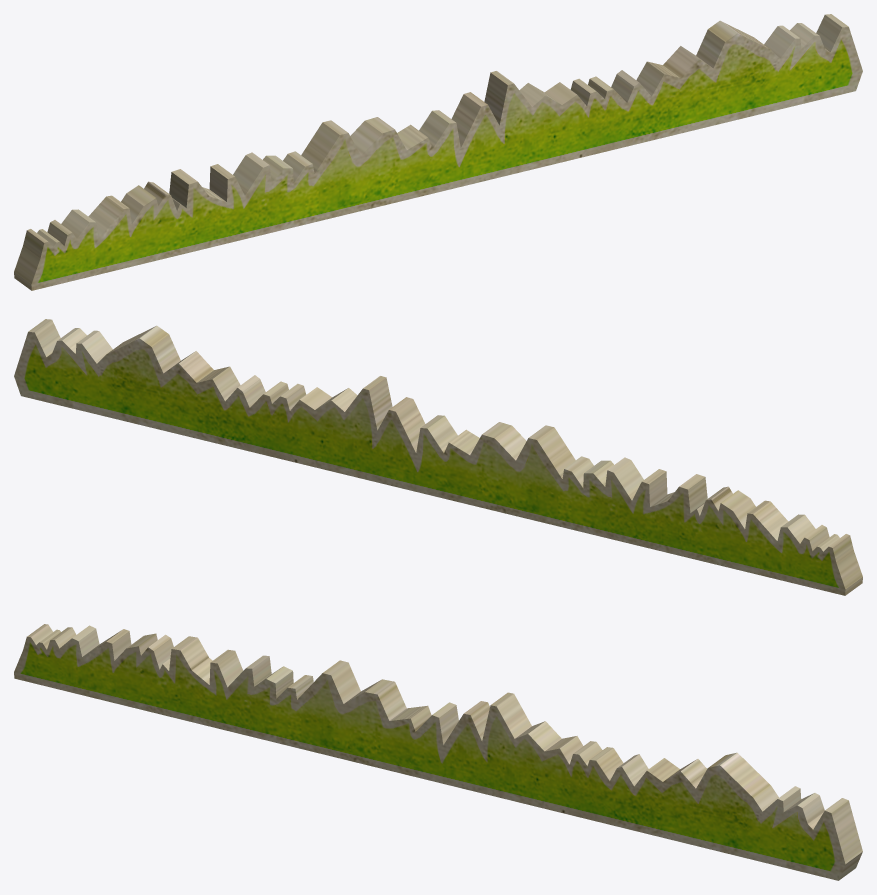
Rendered from plant.FBX.
3 views of the same model, one above another, from view 1: azimuth 30°, elevation 25°; view 2: azimuth 150°, elevation 25°; view 3: azimuth 330°, elevation 25° (orthographic).
Visible parts, largest first — view 1: Plane03; view 2: Plane03; view 3: Plane03.
Part boxes in pixels (x1,y1,x2,y2): Plane03: (14,14,862,290); Plane03: (14,319,862,595); Plane03: (14,624,862,880).
Size of the model in its own units: 131 by 13.74 by 4.77.
